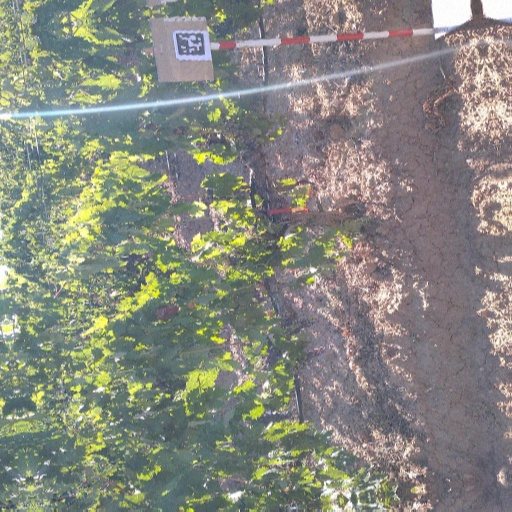QR: (177, 32, 207, 56)
